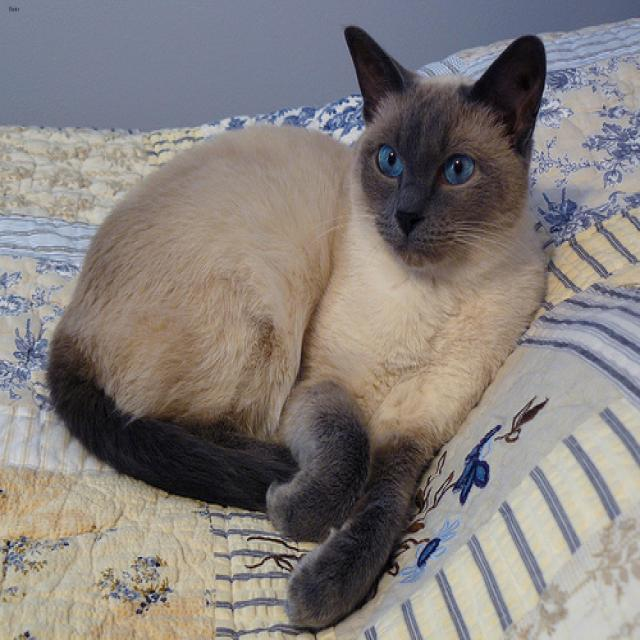cat: (343, 23, 544, 267)
